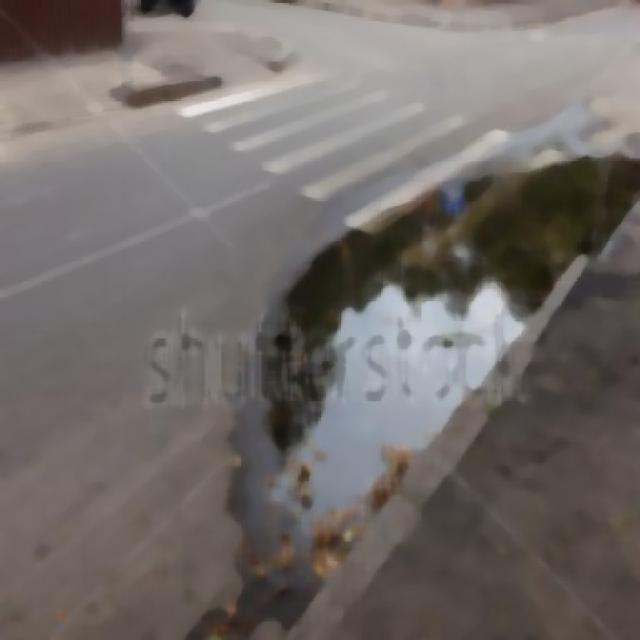Pothole: (282, 177, 622, 486)
